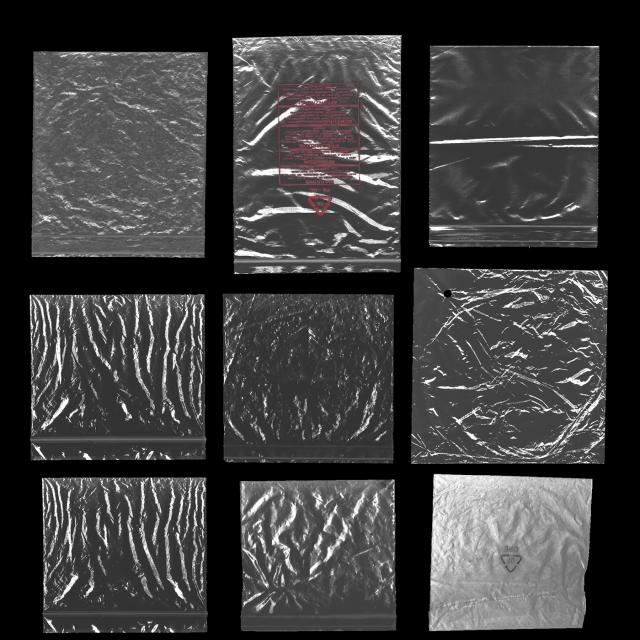Single-layer Plastic: (233, 36, 401, 272), (412, 269, 606, 462), (32, 52, 207, 256), (429, 46, 599, 246), (31, 295, 205, 460), (224, 294, 392, 462), (429, 475, 592, 630), (44, 478, 205, 632), (240, 480, 395, 631)
